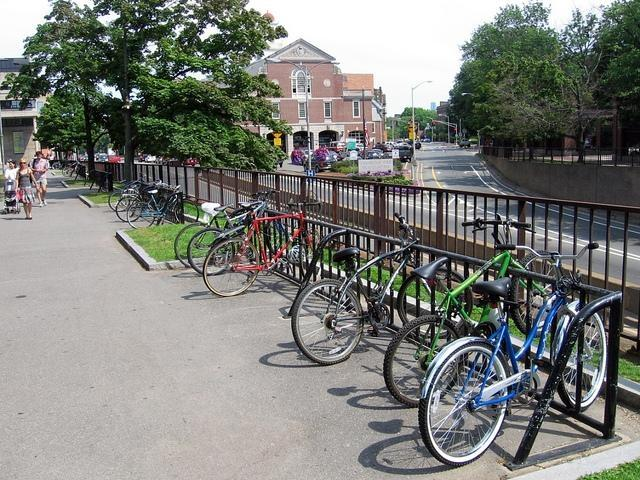bicycle: (416, 240, 610, 468), (380, 212, 539, 408), (287, 211, 473, 366), (203, 198, 320, 296), (172, 188, 267, 268), (126, 184, 200, 230), (114, 178, 170, 222), (108, 172, 146, 213), (62, 166, 79, 176), (52, 160, 62, 170)
car: (303, 158, 331, 173), (394, 145, 412, 163), (301, 149, 314, 165), (405, 138, 421, 150), (326, 151, 342, 162), (371, 145, 393, 152), (393, 138, 410, 147), (367, 151, 382, 159), (98, 153, 109, 162), (109, 156, 121, 162)
